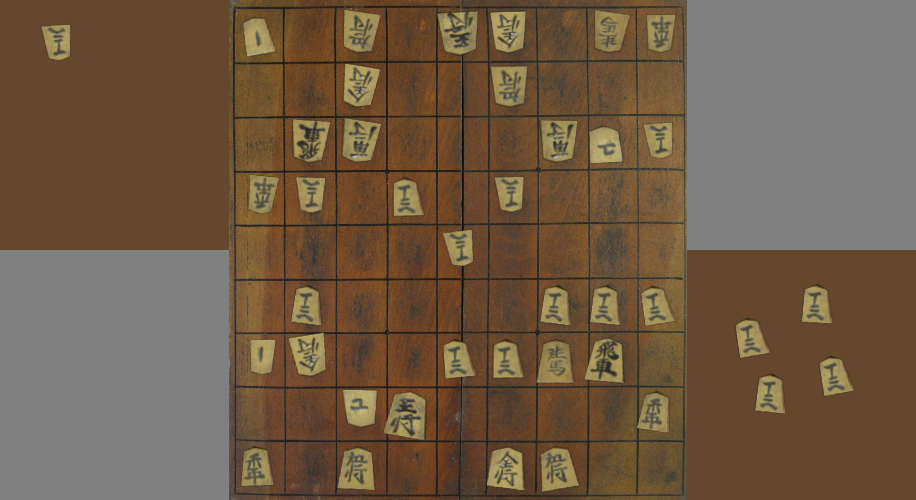A: (386, 393, 425, 439), (586, 339, 623, 382), (338, 448, 375, 490), (542, 448, 578, 491), (487, 448, 522, 490), (538, 341, 572, 383), (642, 288, 674, 325), (243, 19, 274, 56), (638, 393, 668, 431), (242, 448, 272, 486), (591, 127, 622, 162), (444, 342, 474, 378), (292, 287, 321, 324), (541, 287, 569, 325), (591, 287, 619, 325), (394, 180, 423, 215), (494, 342, 522, 377)
B: (438, 12, 477, 54), (343, 10, 379, 52), (344, 120, 380, 161), (294, 120, 329, 162), (541, 121, 577, 161), (344, 65, 379, 106), (290, 334, 325, 375), (491, 12, 525, 52), (492, 67, 526, 106), (596, 12, 629, 51), (344, 390, 376, 426), (248, 175, 278, 213), (444, 230, 472, 266), (649, 15, 675, 51), (496, 177, 523, 211), (298, 178, 325, 212), (645, 125, 672, 157), (251, 340, 274, 374)
C: (736, 319, 769, 358), (820, 358, 853, 396), (755, 375, 784, 413), (803, 286, 830, 323)
D: (42, 26, 71, 60)
